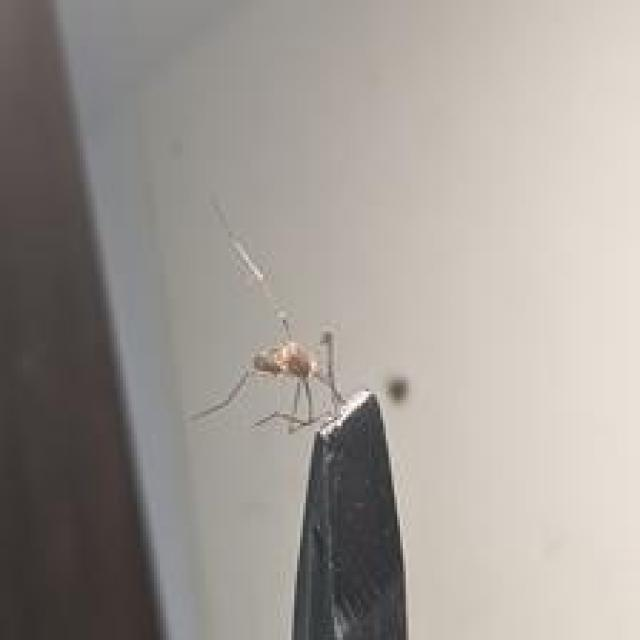Culex: (185, 313, 348, 436)
